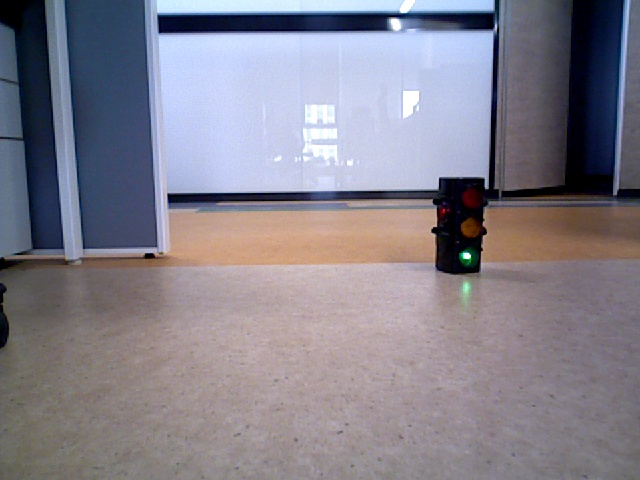green: (437, 180, 479, 273)
